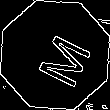M_NW: (22, 23, 88, 87)
